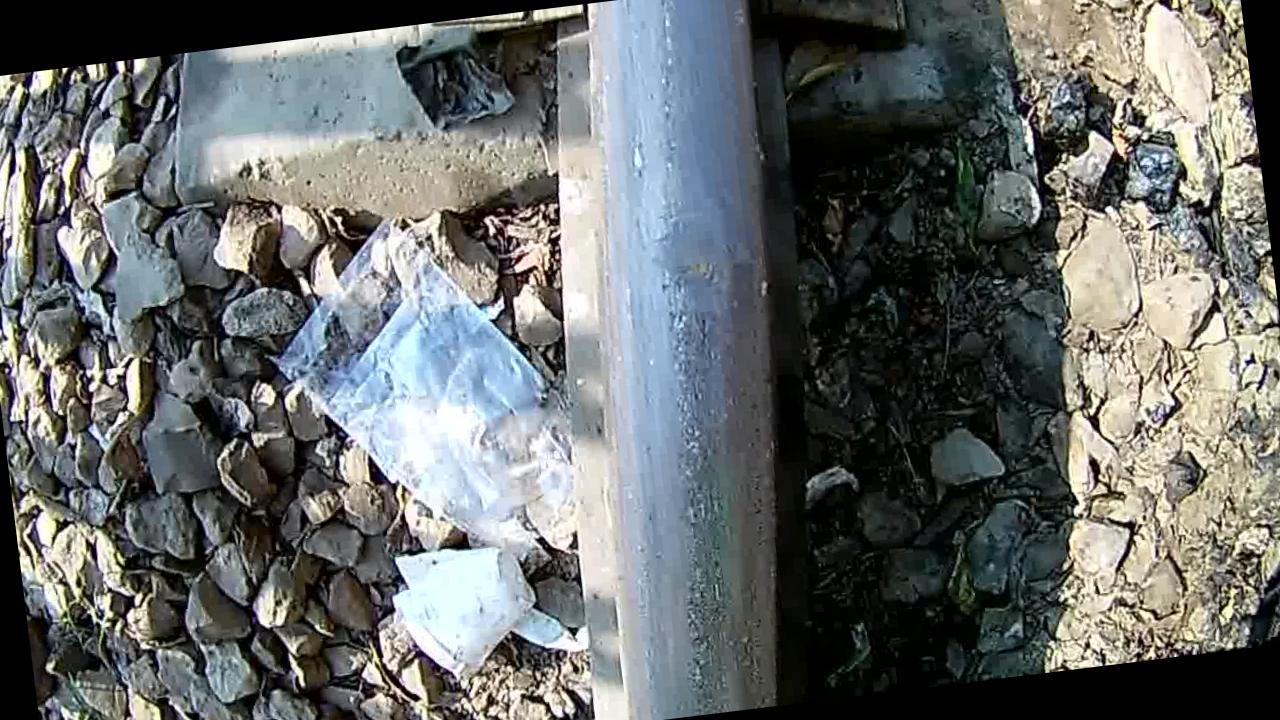bolt_missing: (586, 100, 780, 437)
